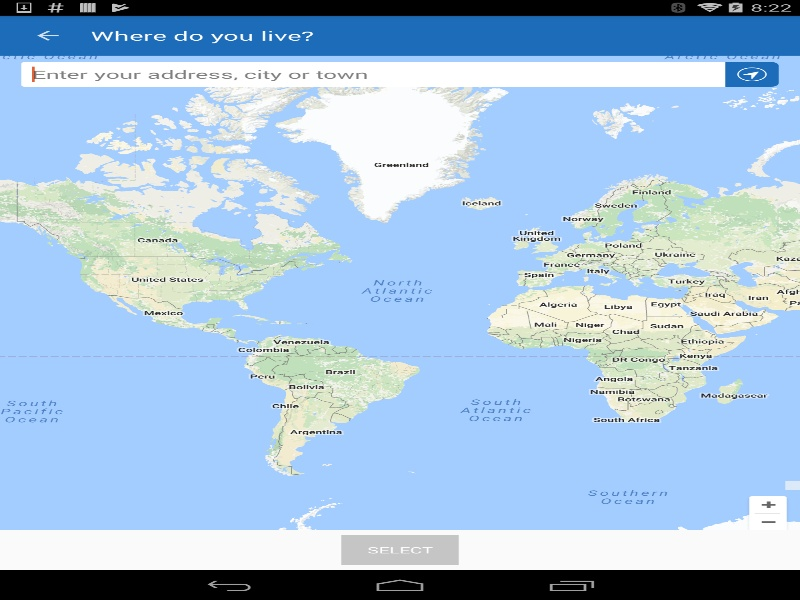Button: (341, 535, 458, 565), (10, 15, 85, 55)
Input: (21, 61, 725, 86)
